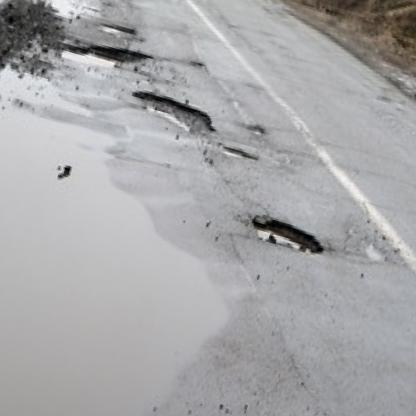pothole: (59, 30, 155, 86), (125, 87, 221, 140), (246, 214, 327, 262), (218, 143, 259, 165), (98, 18, 136, 39), (249, 121, 267, 138), (190, 59, 208, 72)
